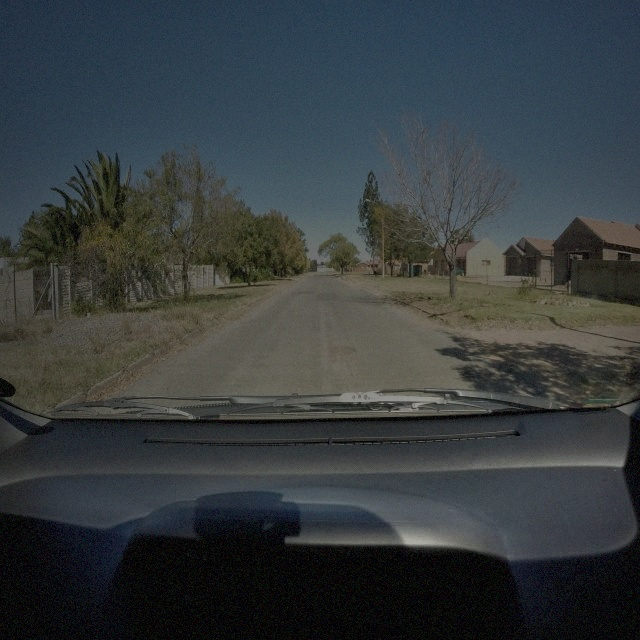pothole: (329, 343, 354, 359)
